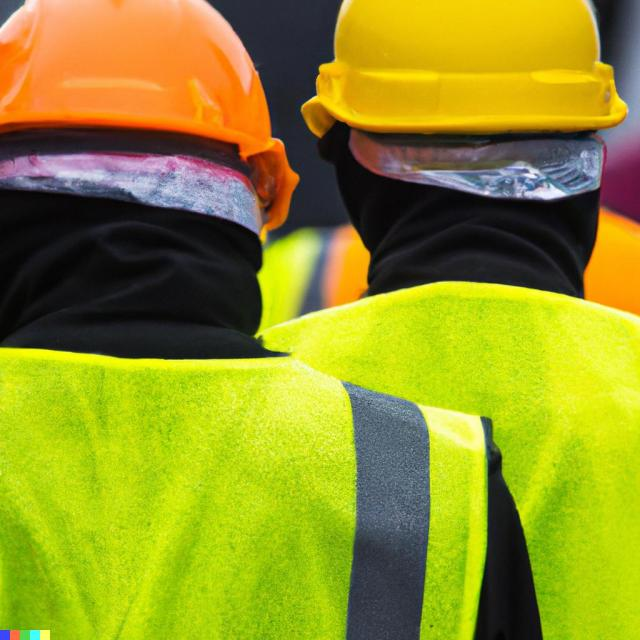Reflective-Jacket: (275, 245, 640, 640)
Safety-Helmet: (305, 1, 633, 143), (0, 5, 282, 162)
